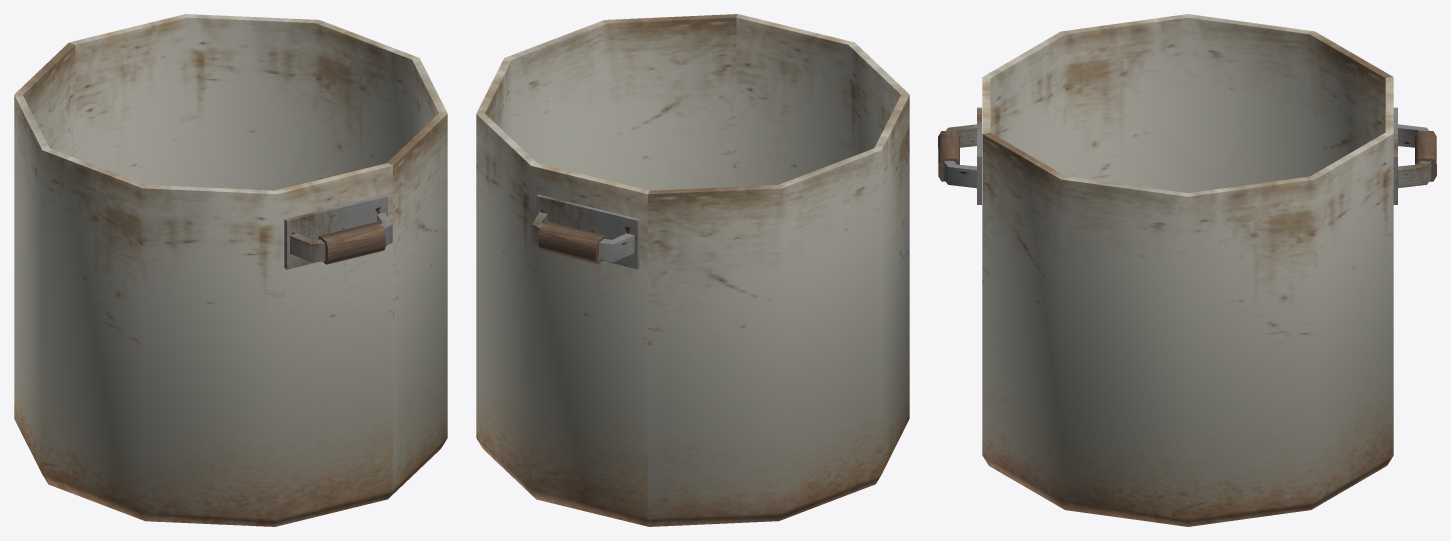
File: pan02.fbx
3 views of the same model, side by side, from view 1: azimuth 30°, elevation 25°; view 2: azimuth 150°, elevation 25°; view 3: azimuth 270°, elevation 25° (orthographic).
Parts seen in each view (by area): view 1: pan02; view 2: pan02; view 3: pan02.
Part boxes in pixels (x1,y1,x2,y2): pan02: (14, 14, 447, 526); pan02: (476, 14, 909, 526); pan02: (938, 14, 1436, 526).
Size of the model in its own units: 40.64 by 34.53 by 46.85.
